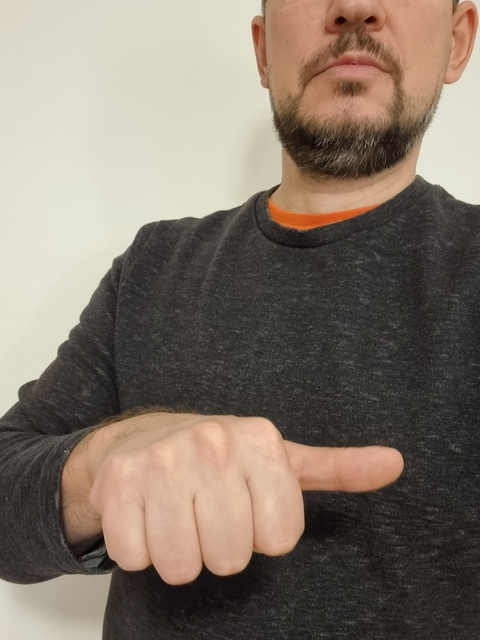GestBack: (104, 416, 403, 587)
